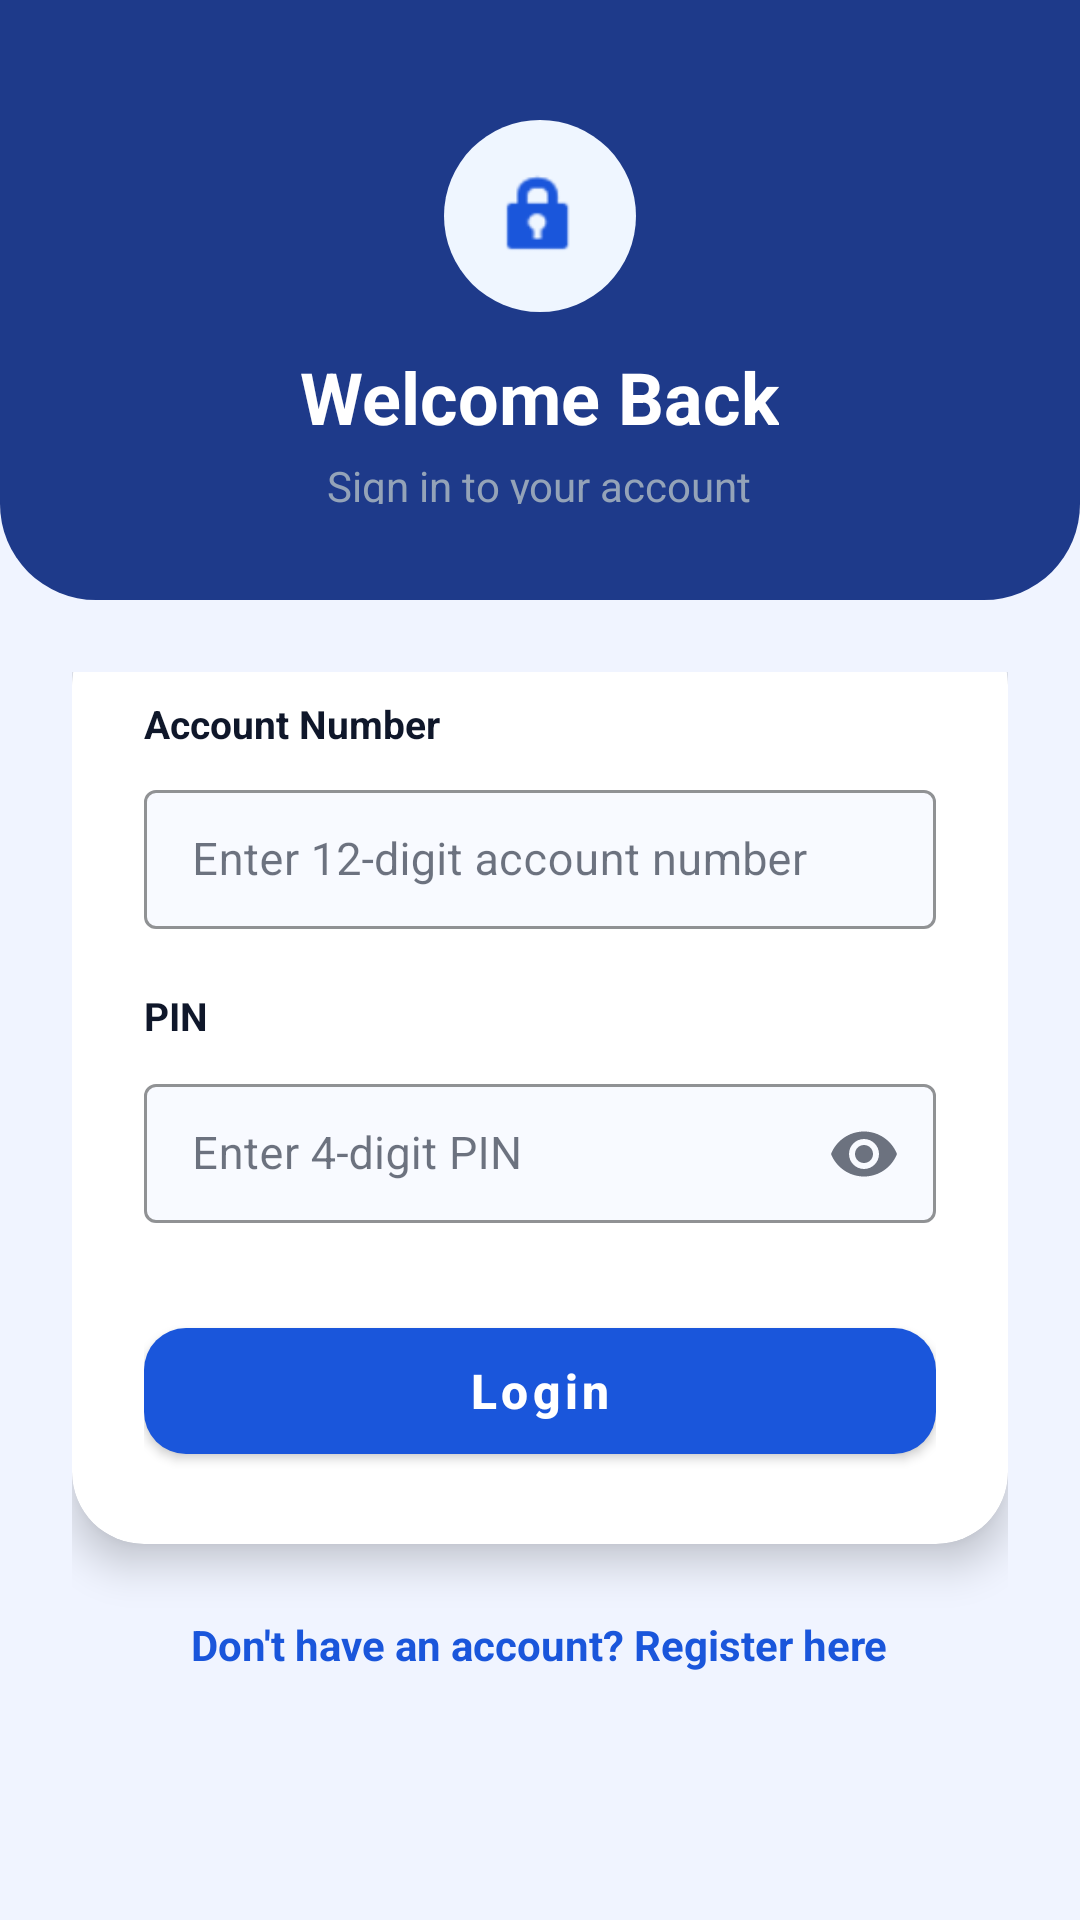

Point at icon controls on the screen. Image size 1080*1920, points as (x=x, y=y).
lock idle: (x=537, y=213)
